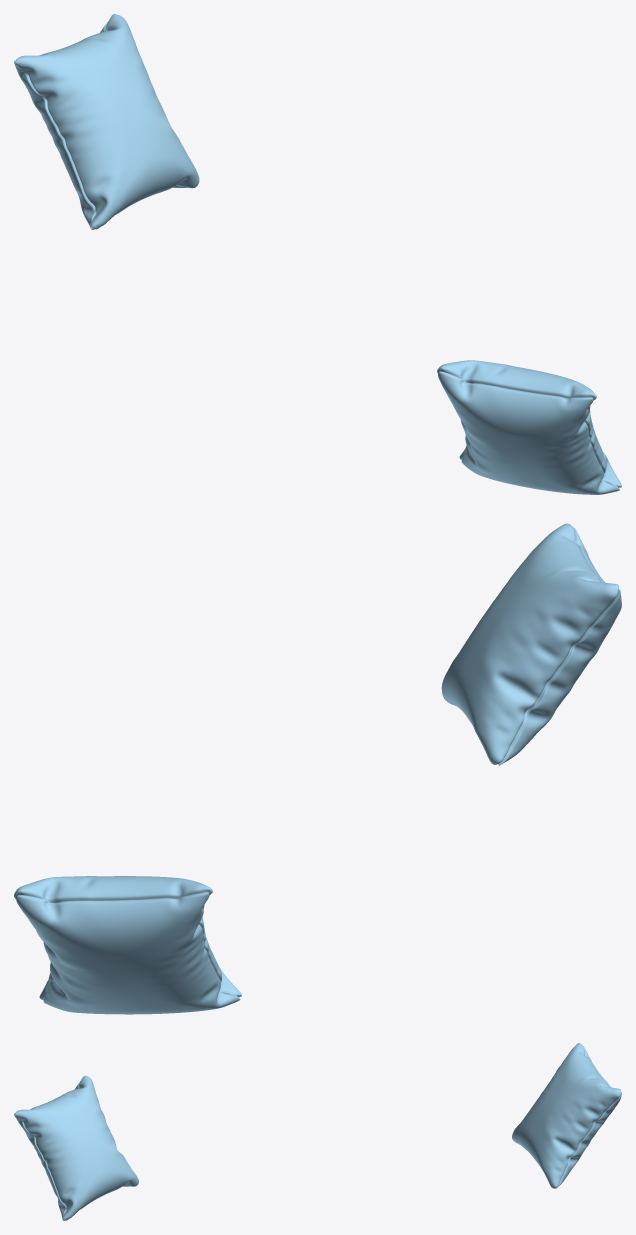
Rendered from SmallPillows.fbx.
3 renders of one model, top to bottom at view 1: azimuth 30°, elevation 25°; view 2: azimuth 150°, elevation 25°; view 3: azimuth 270°, elevation 25°, orthographic. The views are drawn at different scales.
Parts seen in each view (by area): view 1: Pillow 03.001; view 2: Pillow 03.001; view 3: Pillow 03.001.
Part boxes in pixels (bbox=[...]): Pillow 03.001: bbox=[14, 14, 621, 494]; Pillow 03.001: bbox=[14, 523, 621, 1014]; Pillow 03.001: bbox=[14, 1043, 621, 1220].
Bounding box in the file's own units: 39.11 × 34.09 × 159.
